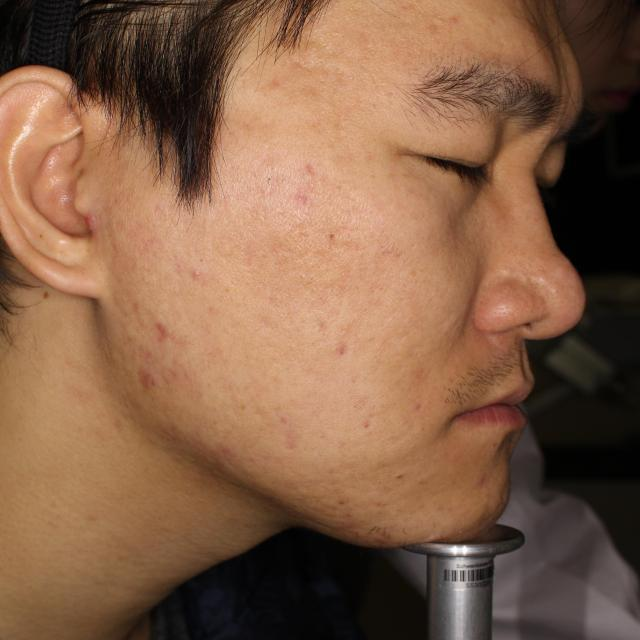acne: (147, 319, 183, 346), (138, 367, 169, 396)
